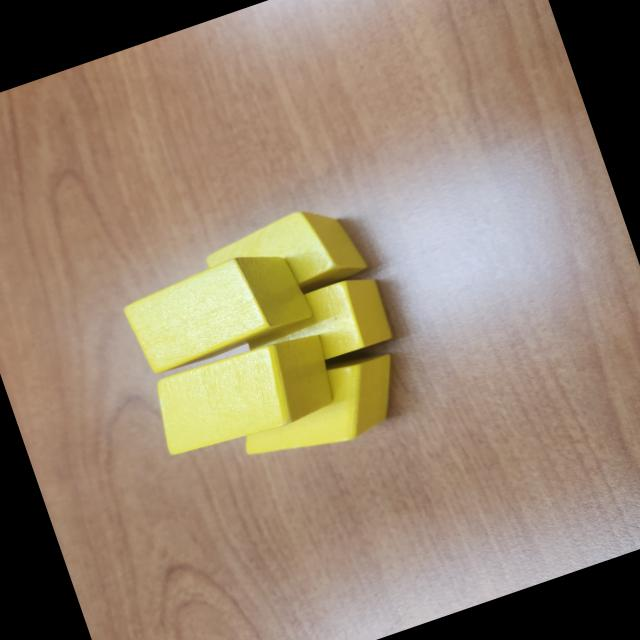yellow: (220, 328, 418, 476), (140, 323, 344, 466), (116, 237, 318, 379), (198, 194, 372, 322), (236, 269, 398, 384)
